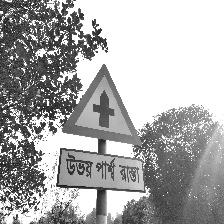Crossroad: (56, 64, 146, 194)
